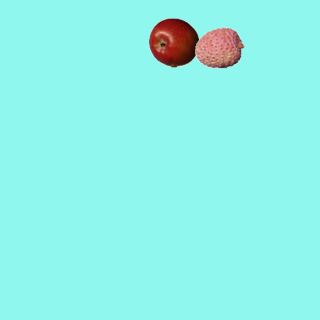Apple Braeburn: (148, 17, 198, 67)
Lychee: (194, 22, 244, 72)
